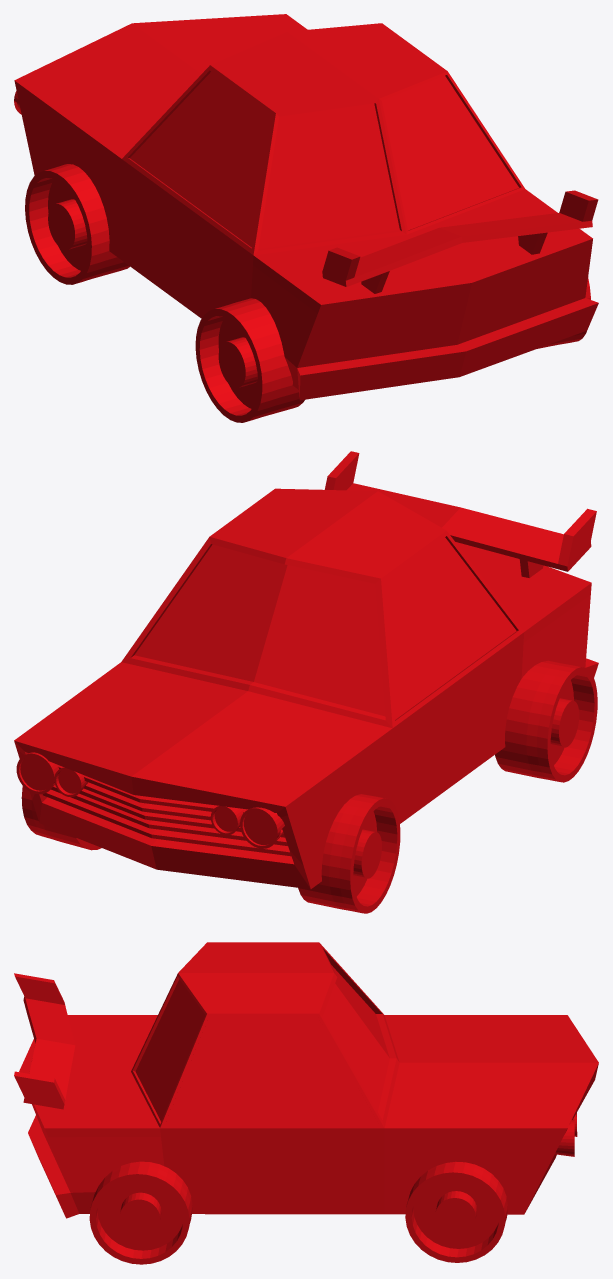
File: auto rojo.fbx
3 renders of one model, top to bottom at view 1: azimuth 30°, elevation 25°; view 2: azimuth 150°, elevation 25°; view 3: azimuth 270°, elevation 25°, orthographic. The views are drawn at different scales.
Visible parts, largest first — view 1: Cube.002; view 2: Cube.002; view 3: Cube.002.
Part boxes in pixels (<box>): Cube.002: <box>14,14,598,422</box>; Cube.002: <box>14,451,598,913</box>; Cube.002: <box>14,942,598,1264</box>.
Bounding box in the file's own units: 775 × 562 × 1333.
